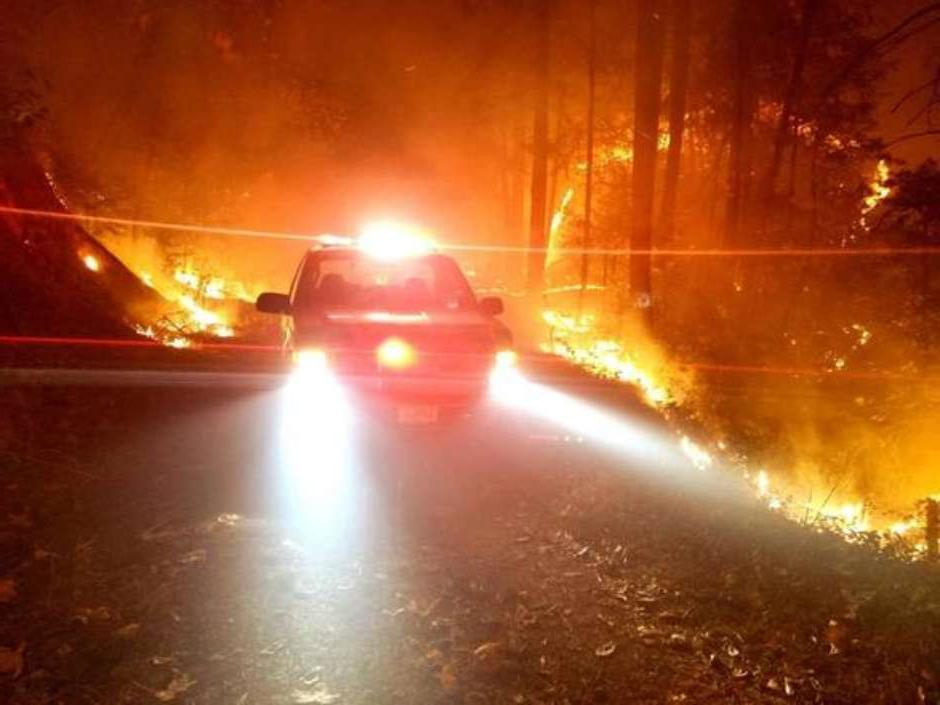Fire: (534, 286, 700, 403), (537, 121, 669, 266), (80, 255, 241, 367), (760, 460, 926, 540), (848, 153, 902, 233)
